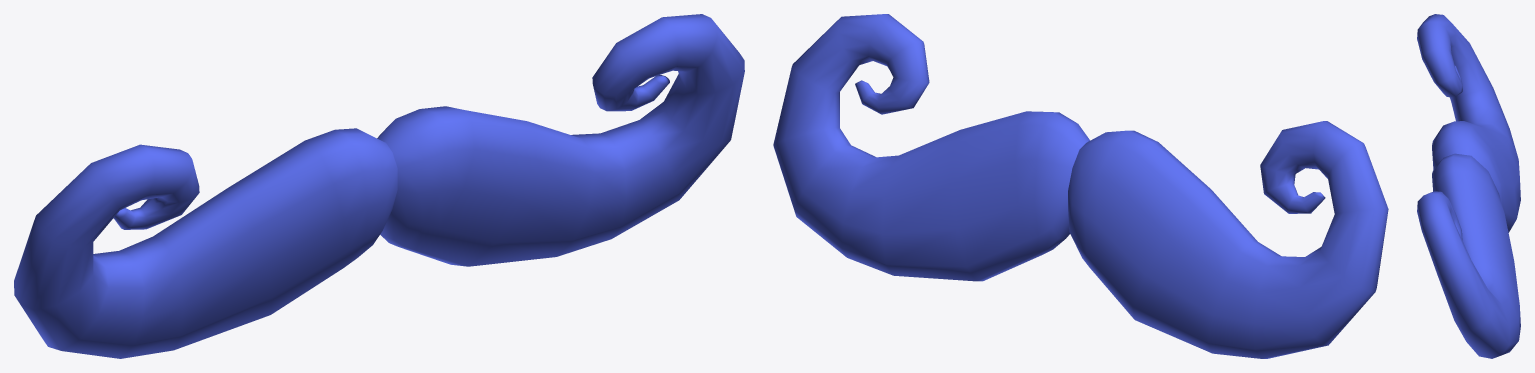
Rendered from Beard_16_03.fbx.
3 renders of one model, left to right at view 1: azimuth 30°, elevation 25°; view 2: azimuth 150°, elevation 25°; view 3: azimuth 270°, elevation 25°, orthographic. The views are drawn at different scales.
Parts seen in each view (by area): view 1: Beard_16_03; view 2: Beard_16_03; view 3: Beard_16_03.
Boxes of the visible parts, x1,y1,x2,y2 form: Beard_16_03: (14, 14, 744, 358); Beard_16_03: (773, 14, 1388, 358); Beard_16_03: (1417, 14, 1520, 358).
Size of the model in its own units: 14.58 by 4.99 by 2.74.
